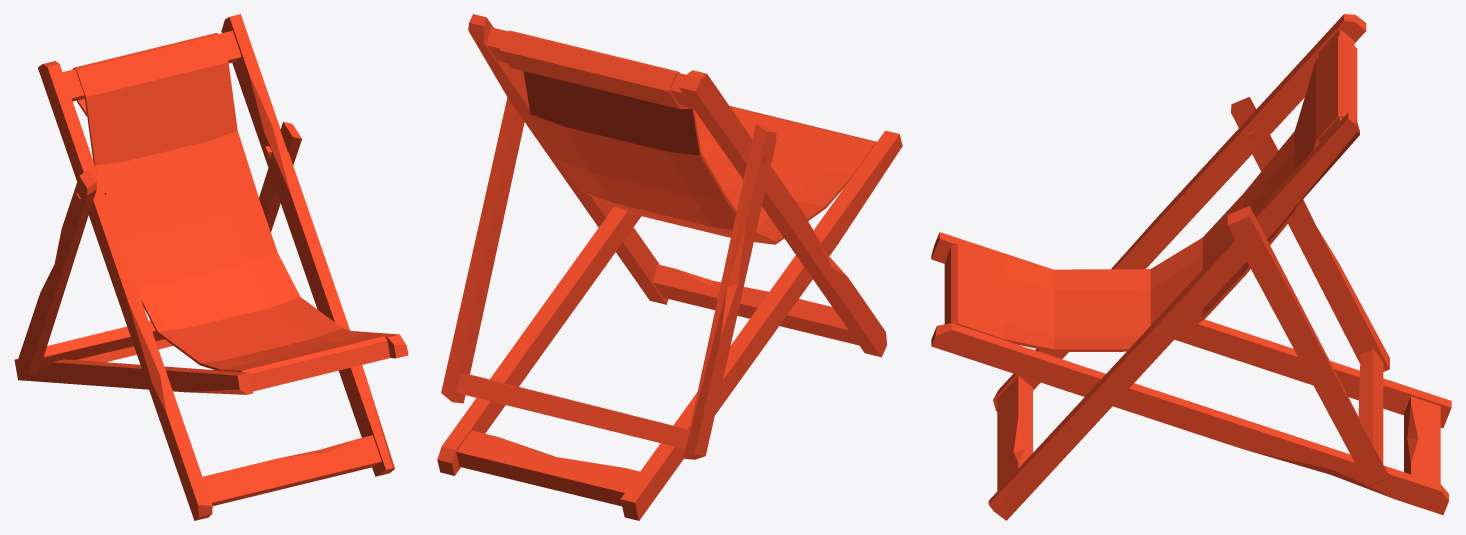
The model's file is SM_Lounger_C_City.fbx.
3 renders of one model, left to right at view 1: azimuth 30°, elevation 25°; view 2: azimuth 150°, elevation 25°; view 3: azimuth 270°, elevation 25°, orthographic. The views are drawn at different scales.
Visible parts, largest first — view 1: SM_Lounger_C_City; view 2: SM_Lounger_C_City; view 3: SM_Lounger_C_City.
Boxes of the visible parts, <box> form: SM_Lounger_C_City: <box>14,14,408,520</box>; SM_Lounger_C_City: <box>437,14,902,520</box>; SM_Lounger_C_City: <box>931,14,1451,520</box>.
Bounding box in the file's own units: 0.6418 × 1 × 1.17.
